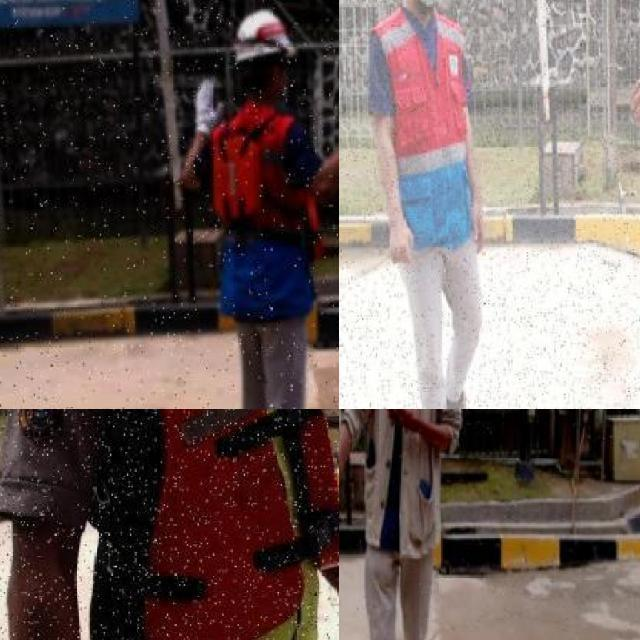apron: (190, 74, 226, 142)
